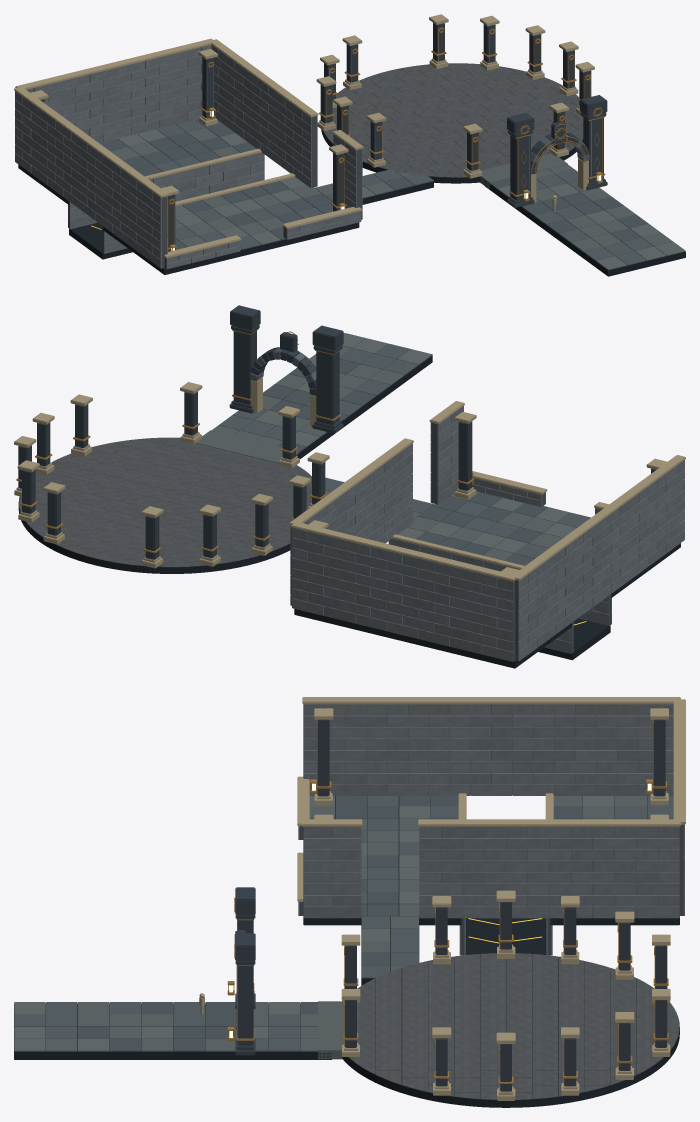
Rendered from fracture-static-v04.glb.
3 views of the same model, one above another, from view 1: azimuth 30°, elevation 25°; view 2: azimuth 150°, elevation 25°; view 3: azimuth 270°, elevation 25° (orthographic). The views are drawn at different scales.
Parts seen in each view (by area): view 1: fracture-static-v04 Fire coursed basalt, fracture-static-v04 Quiet basalt 0, fracture-static-v04 Ash stone • warm trim, fracture-static-v04 Basalt • charcoal, fracture-static-v04 Floor stone 3, fracture-static-v04 Floor stone 1, fracture-static-v04 Floor stone 0, fracture-static-v04 Recesses and grout, fracture-static-v04 Floor stone 2, fracture-static-v04 Bronze • forged warm, fracture-static-v04 Fire recessed mortar; view 2: fracture-static-v04 Fire coursed basalt, fracture-static-v04 Quiet basalt 0, fracture-static-v04 Basalt • charcoal, fracture-static-v04 Ash stone • warm trim, fracture-static-v04 Recesses and grout, fracture-static-v04 Floor stone 1, fracture-static-v04 Floor stone 0, fracture-static-v04 Floor stone 3, fracture-static-v04 Floor stone 2, fracture-static-v04 Fire recessed mortar, fracture-static-v04 Bronze • forged warm; view 3: fracture-static-v04 Fire coursed basalt, fracture-static-v04 Quiet basalt 0, fracture-static-v04 Ash stone • warm trim, fracture-static-v04 Basalt • charcoal, fracture-static-v04 Recesses and grout, fracture-static-v04 Floor stone 1, fracture-static-v04 Floor stone 0, fracture-static-v04 Floor stone 3, fracture-static-v04 Floor stone 2, fracture-static-v04 Bronze • forged warm, fracture-static-v04 Fire recessed mortar.
Part boxes in pixels (x1,y1,x2,y2): fracture-static-v04 Fire coursed basalt: (15,44,362,269); fracture-static-v04 Quiet basalt 0: (323,63,583,177); fracture-static-v04 Ash stone • warm trim: (14,14,594,258); fracture-static-v04 Basalt • charcoal: (40,23,607,251); fracture-static-v04 Floor stone 3: (99,124,648,249); fracture-static-v04 Floor stone 1: (110,128,673,251); fracture-static-v04 Floor stone 0: (154,119,653,265); fracture-static-v04 Recesses and grout: (18,129,685,276); fracture-static-v04 Floor stone 2: (117,129,685,270); fracture-static-v04 Bronze • forged warm: (44,26,605,251); fracture-static-v04 Fire recessed mortar: (68,62,361,268); fracture-static-v04 Fire coursed basalt: (290,406,684,661); fracture-static-v04 Quiet basalt 0: (19,437,311,567); fracture-static-v04 Basalt • charcoal: (18,305,655,559); fracture-static-v04 Ash stone • warm trim: (14,377,685,581); fracture-static-v04 Recesses and grout: (18,355,680,668); fracture-static-v04 Floor stone 1: (196,346,562,560); fracture-static-v04 Floor stone 0: (219,343,590,661); fracture-static-v04 Floor stone 3: (263,359,547,565); fracture-static-v04 Floor stone 2: (255,333,576,553); fracture-static-v04 Fire recessed mortar: (291,423,611,661); fracture-static-v04 Bronze • forged warm: (16,329,474,553); fracture-static-v04 Fire coursed basalt: (298,704,684,955); fracture-static-v04 Quiet basalt 0: (348,953,679,1099); fracture-static-v04 Ash stone • warm trim: (199,697,685,1100); fracture-static-v04 Basalt • charcoal: (235,719,667,1091); fracture-static-v04 Recesses and grout: (14,796,679,1107); fracture-static-v04 Floor stone 1: (46,795,646,1059); fracture-static-v04 Floor stone 0: (14,795,673,1051); fracture-static-v04 Floor stone 3: (78,795,673,1051); fracture-static-v04 Floor stone 2: (14,795,614,1051); fracture-static-v04 Bronze • forged warm: (227,719,668,1090); fracture-static-v04 Fire recessed mortar: (299,704,683,954).
Bounding box in the file's own units: 50.67 × 12.02 × 46.42.
Materials: 14 (2 with a texture image).
